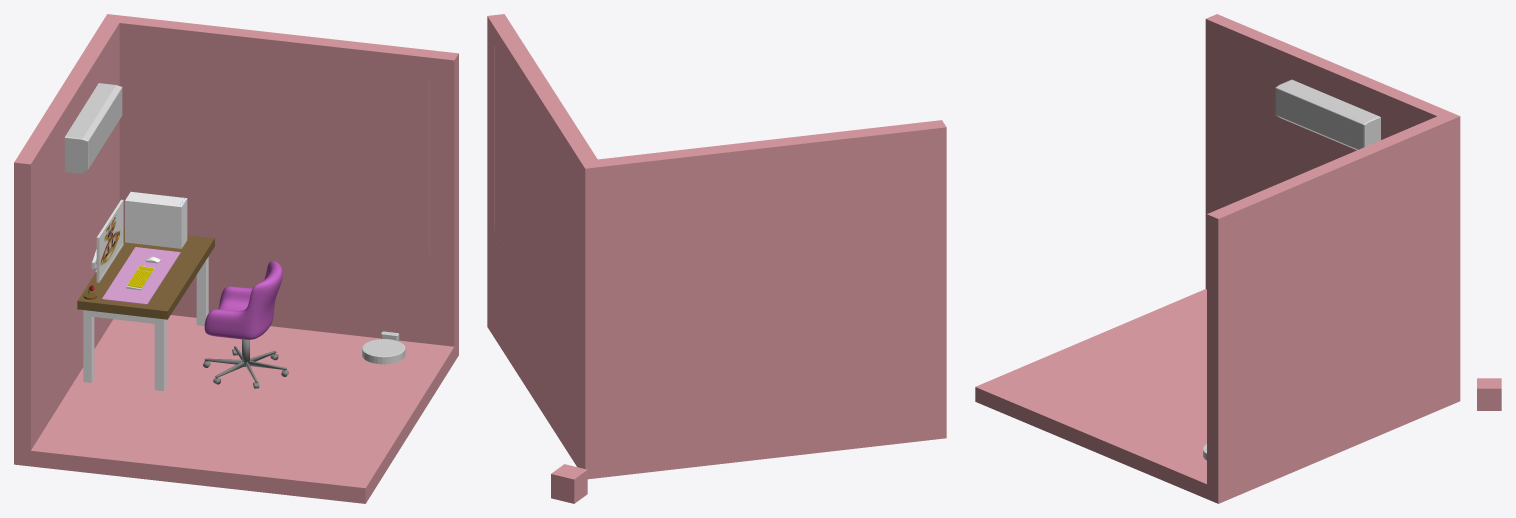
The model's file is myHome.glb.
The picture shows the model from 3 angles, left to right: view 1: azimuth 30°, elevation 25°; view 2: azimuth 150°, elevation 25°; view 3: azimuth 270°, elevation 25°; orthographic projection. The views are drawn at different scales.
Parts seen in each view (by area): view 1: body, chuanghu, zhuozi, pinmuzhuji, kaobei, kongtiao, shubiaodian, yizitui, pinmu, saodiji, jianpanshubiao; view 2: body, chuanghu, cube; view 3: body, chuanghu, kongtiao, cube.
Part boxes in pixels (x1,y1,x2,y2): body: (14, 14, 458, 503); chuanghu: (144, 44, 429, 254); zhuozi: (77, 228, 214, 391); pinmuzhuji: (91, 191, 187, 282); kaobei: (204, 261, 282, 339); kongtiao: (64, 83, 122, 173); shubiaodian: (102, 247, 180, 304); yizitui: (203, 339, 288, 388); pinmu: (99, 202, 122, 278); saodiji: (362, 339, 405, 364); jianpanshubiao: (126, 256, 160, 290); body: (487, 14, 946, 479); chuanghu: (494, 47, 573, 352); cube: (551, 464, 587, 503); body: (975, 14, 1460, 503); chuanghu: (1235, 146, 1431, 397); kongtiao: (1275, 79, 1380, 150); cube: (1477, 378, 1501, 410).
Bounding box in the file's own units: 39.35 × 25.9 × 42.71.
Materials: 21 (2 with a texture image).
